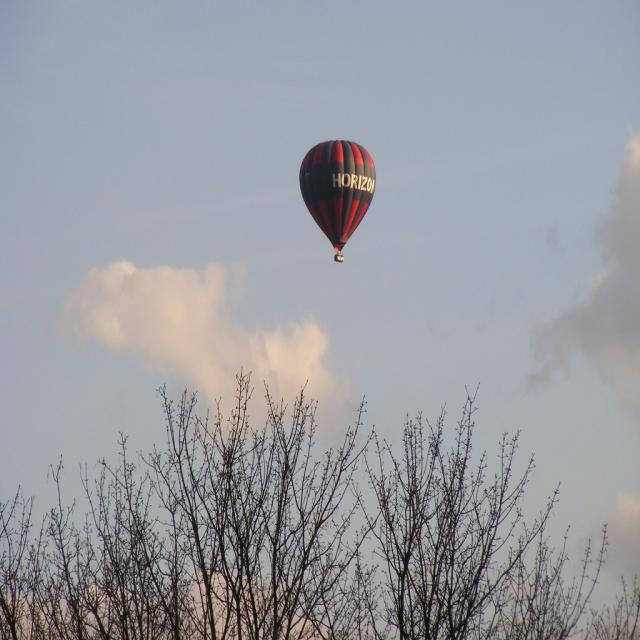balloon: (299, 140, 377, 264)
